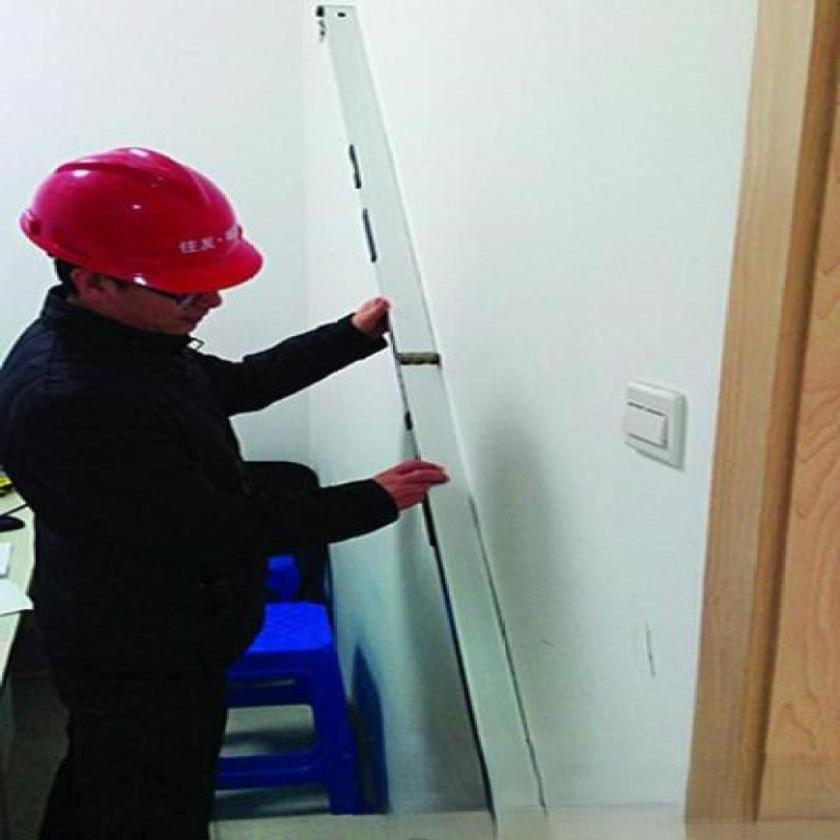Con_casco: (16, 137, 266, 368)
